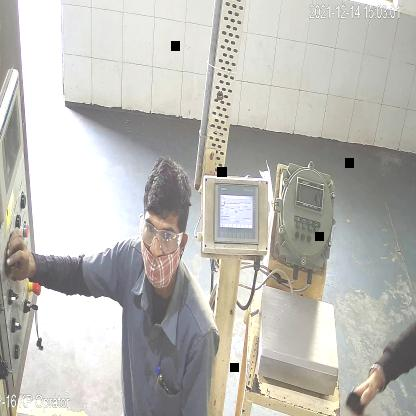goggles: (141, 222, 185, 254)
